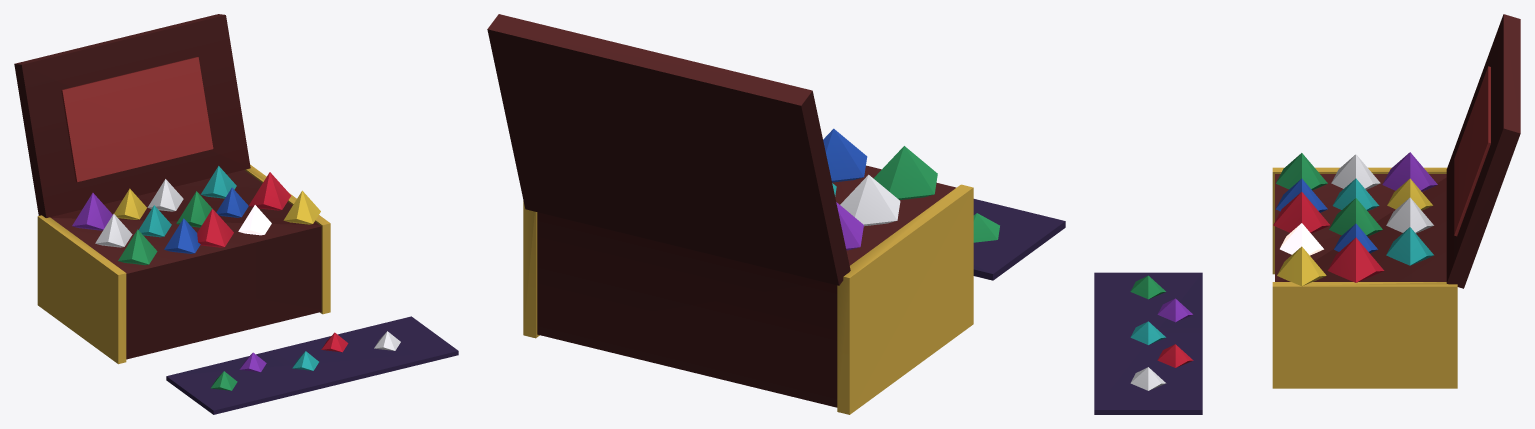
3 views of the same model, side by side, from view 1: azimuth 30°, elevation 25°; view 2: azimuth 150°, elevation 25°; view 3: azimuth 270°, elevation 25° (orthographic). The views are drawn at different scales.
Parts seen in each view (by area): view 1: base; view 2: base; view 3: base.
Boxes of the visible parts, x1,y1,x2,y2 form: base: (14,14,458,414); base: (487,14,1065,414); base: (1094,14,1520,414).
Bounding box in the file's own units: 0.386 × 0.317 × 0.4724.
